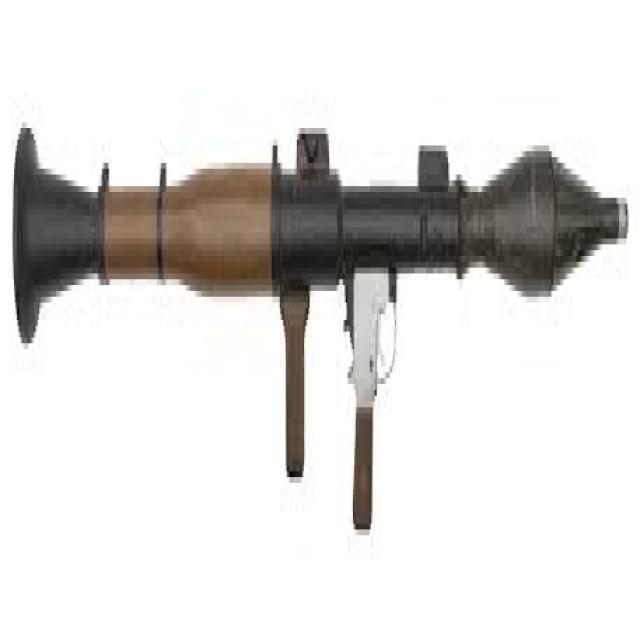Gun: (6, 31, 632, 552)
